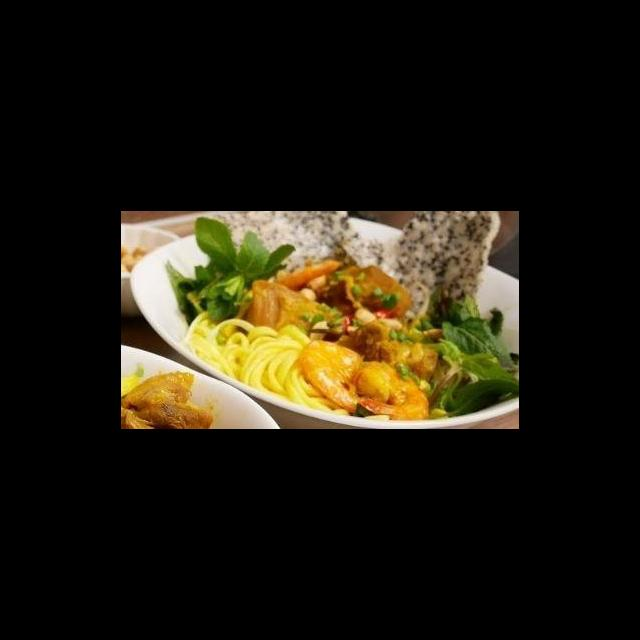banh da: (377, 212, 505, 330), (210, 212, 392, 279)
mi: (184, 315, 351, 417)
tom: (297, 336, 375, 413), (351, 357, 432, 424)
